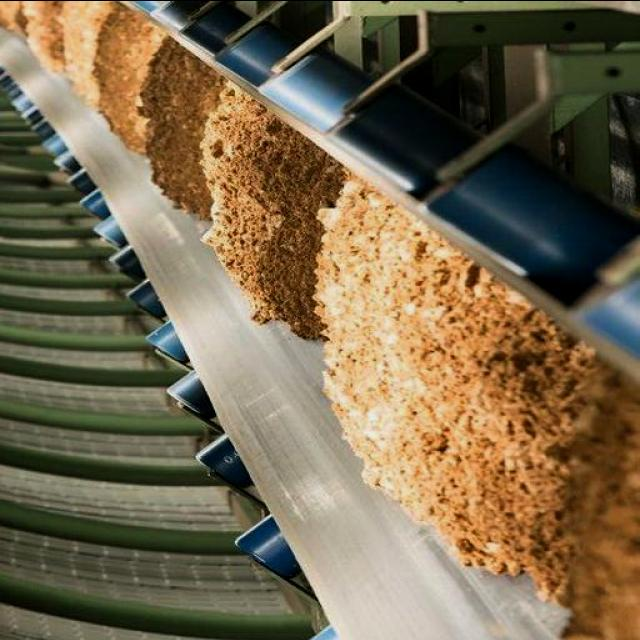conveyor: (0, 0, 640, 640)
